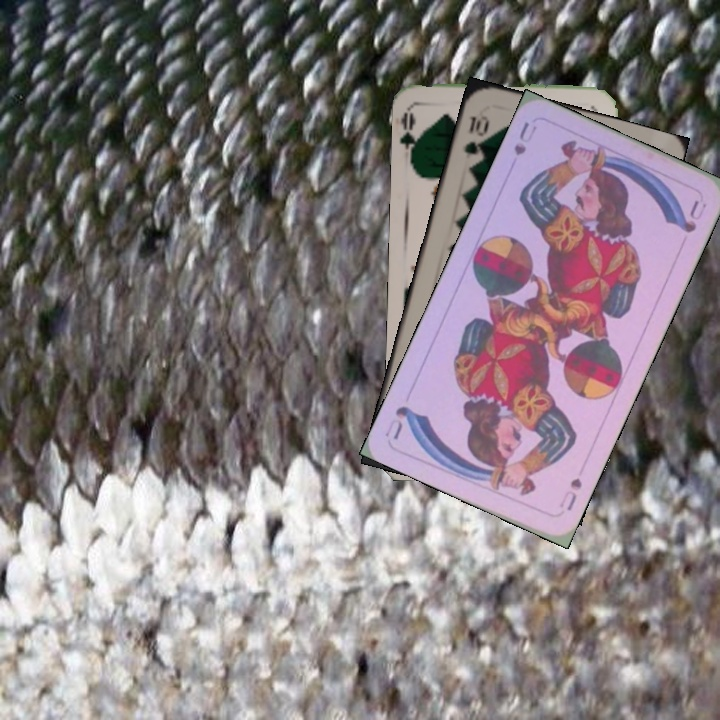G10: (460, 111, 492, 158)
GO: (398, 105, 425, 164)
SU: (510, 117, 540, 159), (555, 474, 585, 514)
